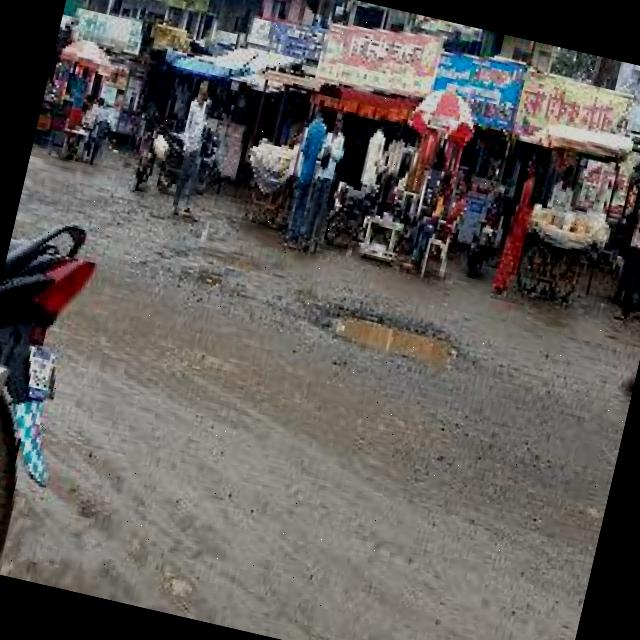stagnation: (296, 280, 466, 392)
